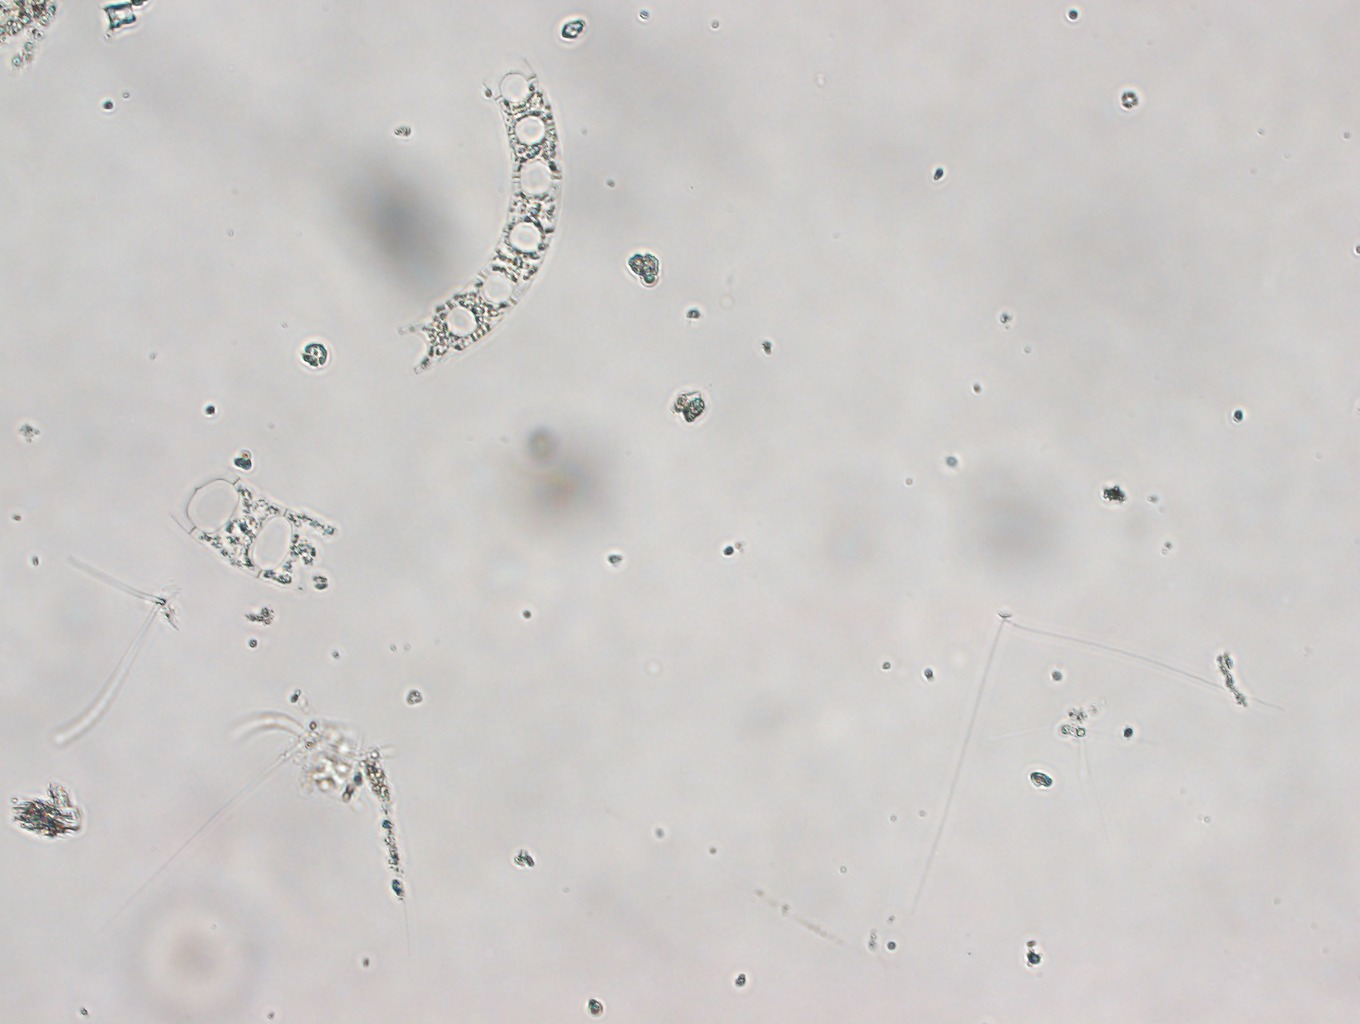eucampia: (392, 44, 572, 383), (156, 453, 347, 603)
